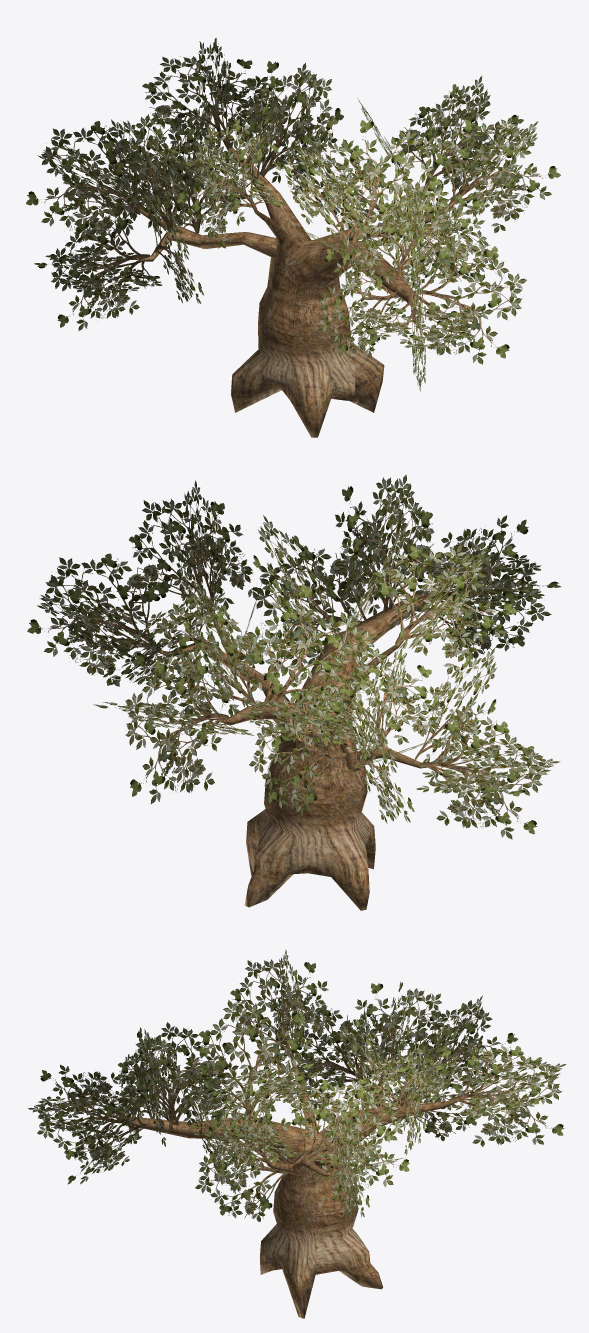
File: decd_blba_tree_l0.fbx
The picture shows the model from 3 angles, top to bottom: view 1: azimuth 30°, elevation 25°; view 2: azimuth 150°, elevation 25°; view 3: azimuth 270°, elevation 25°; orthographic projection. The views are drawn at different scales.
Visible parts, largest first — view 1: mesh_node; view 2: mesh_node; view 3: mesh_node.
Part boxes in pixels (box(x1,y1,x2,y2)): mesh_node: box(26, 38, 560, 437); mesh_node: box(27, 474, 560, 910); mesh_node: box(28, 949, 566, 1318).
Size of the model in its own units: 13.73 by 9.8 by 16.07.
